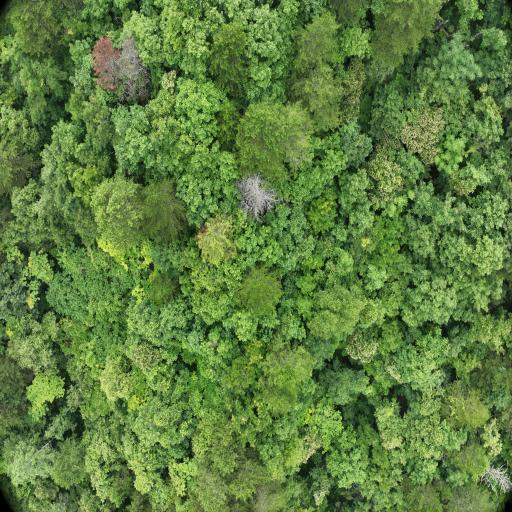dead-tree: (241, 181, 269, 210), (126, 46, 140, 82), (491, 469, 509, 491)
sick-tree: (96, 45, 116, 87)
